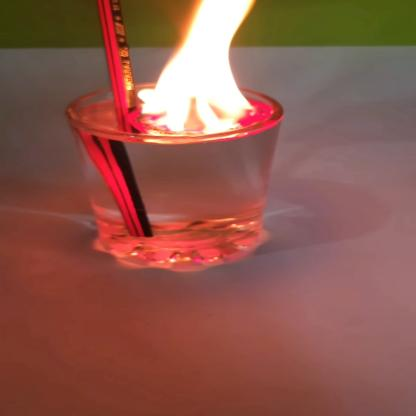Fire: (118, 1, 274, 136)
